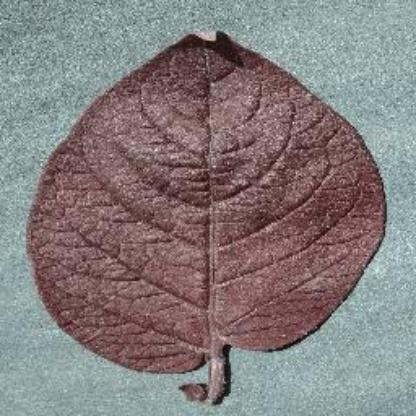Healthy-plant: (20, 24, 390, 408)
